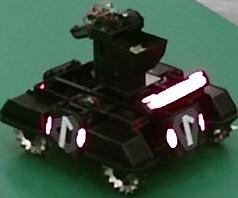armor_1: (45, 116, 87, 148), (168, 114, 205, 149)
light: (142, 70, 207, 109)
